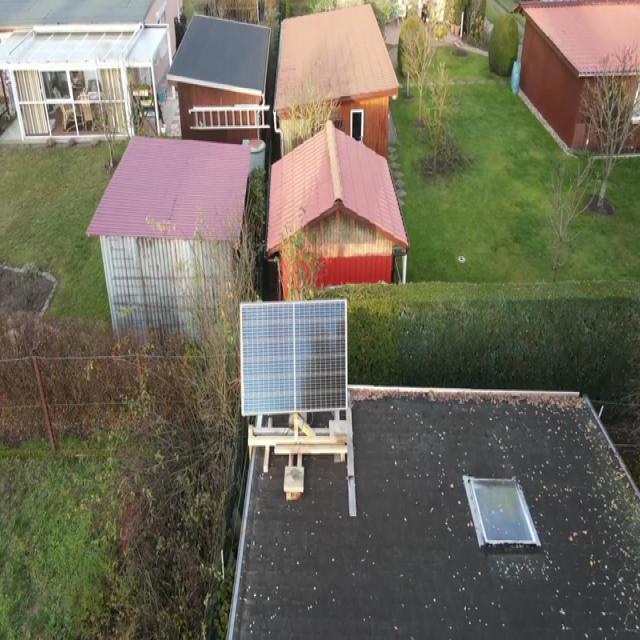Normal Solar Panel: (241, 300, 347, 416)
